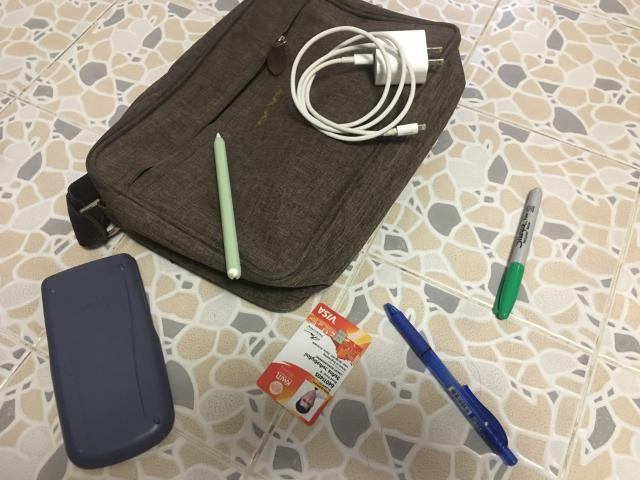Pen: (384, 302, 518, 466), (494, 188, 542, 319)
wire: (290, 26, 444, 141)
